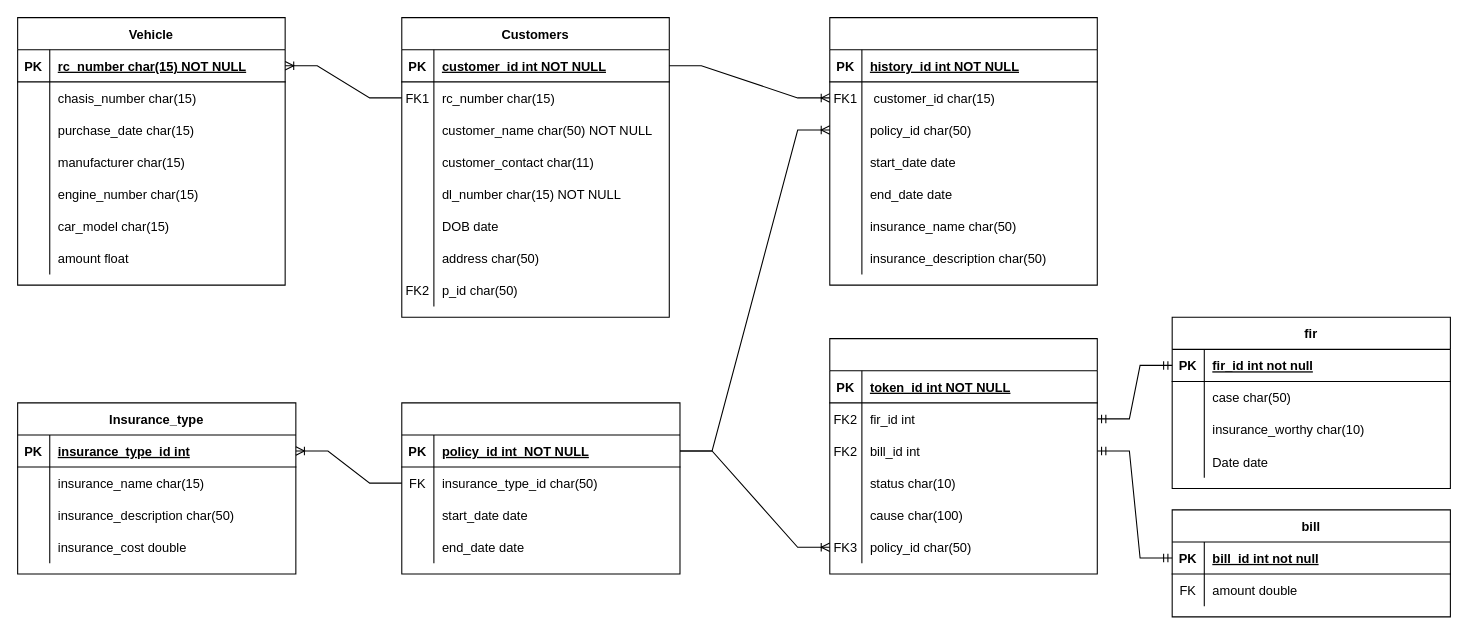
The diagram is 1468 pixels wide and 635 high, and some of its shapes have lost their labels. The box of each missing label's shape, as (x1, y1, x2, y2) in pixels:
Claim_requests: (829, 338, 1097, 574)
Insurance_history: (829, 17, 1097, 285)
Insurance_issued: (401, 402, 680, 574)
